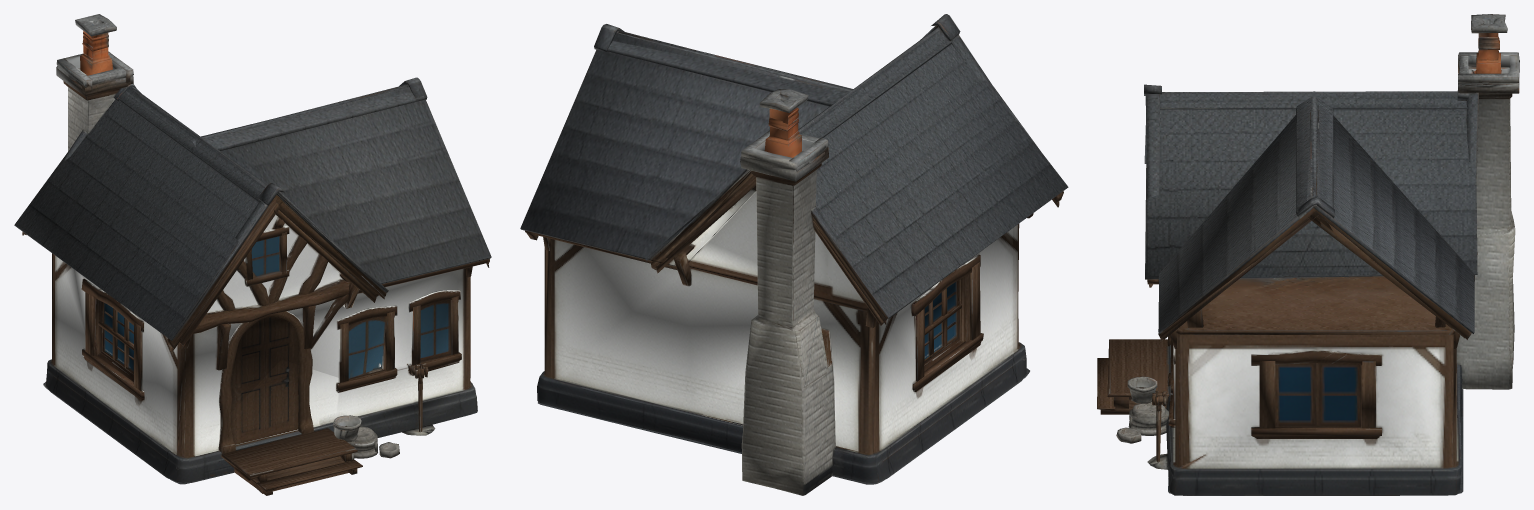
Rendered from house_b_aldmark.glb.
The picture shows the model from 3 angles, left to right: view 1: azimuth 30°, elevation 25°; view 2: azimuth 150°, elevation 25°; view 3: azimuth 270°, elevation 25°; orthographic projection. The views are drawn at different scales.
Size of the model in its own units: 0.8857 by 0.877 by 0.9355.
Materials: 1 (1 with a texture image).
